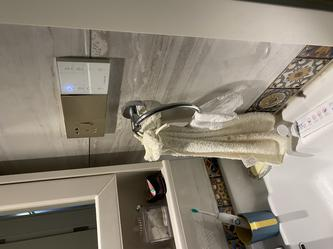switch: (63, 97, 106, 118)
